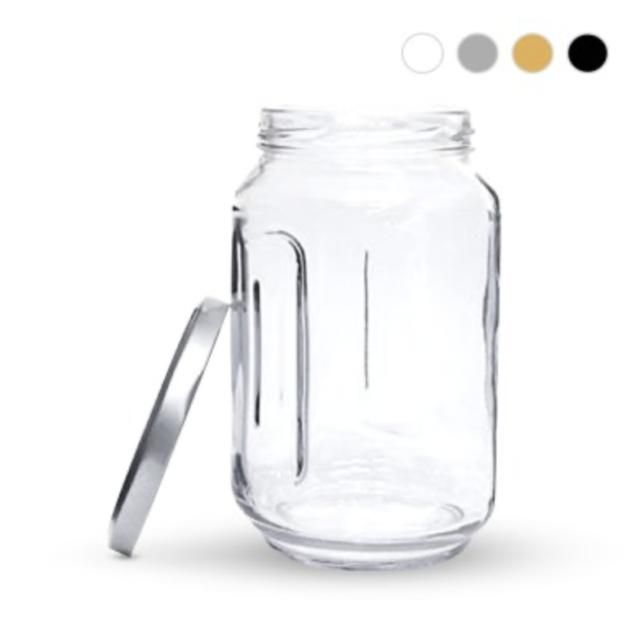recyclable: (226, 86, 512, 582)
